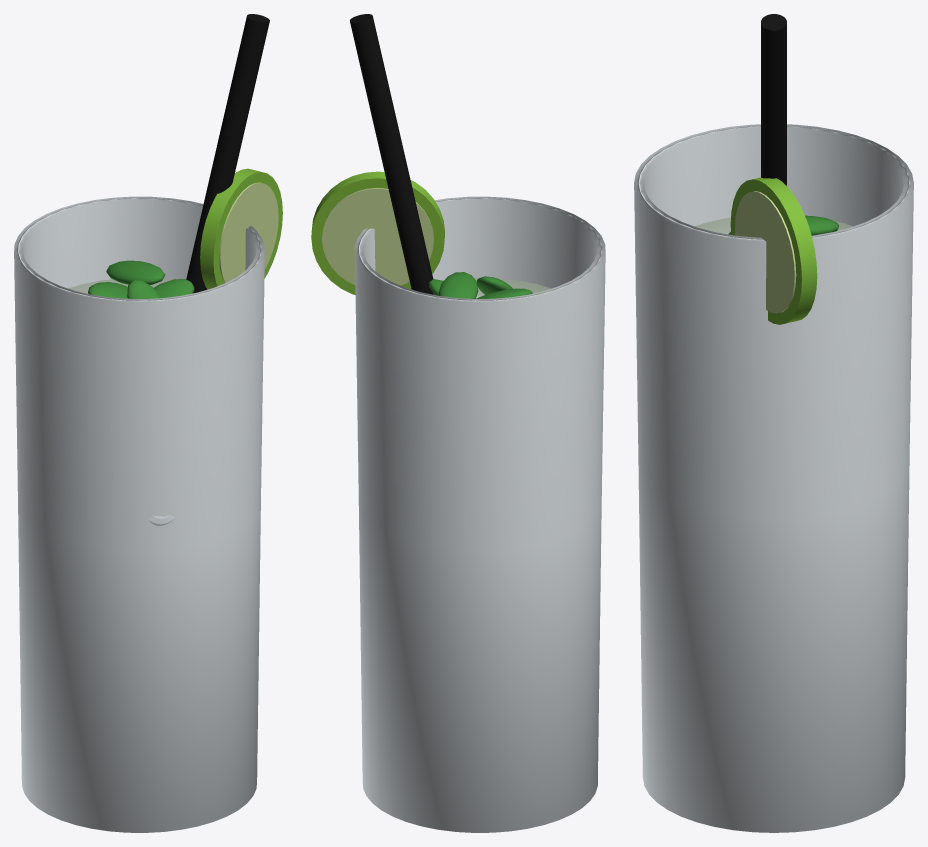
Rendered from cocktail-mojito.glb.
The picture shows the model from 3 angles, left to right: view 1: azimuth 30°, elevation 25°; view 2: azimuth 150°, elevation 25°; view 3: azimuth 270°, elevation 25°; orthographic projection. The views are drawn at different scales.
Bounding box in the file's own units: 0.0779 × 0.2076 × 0.064.
